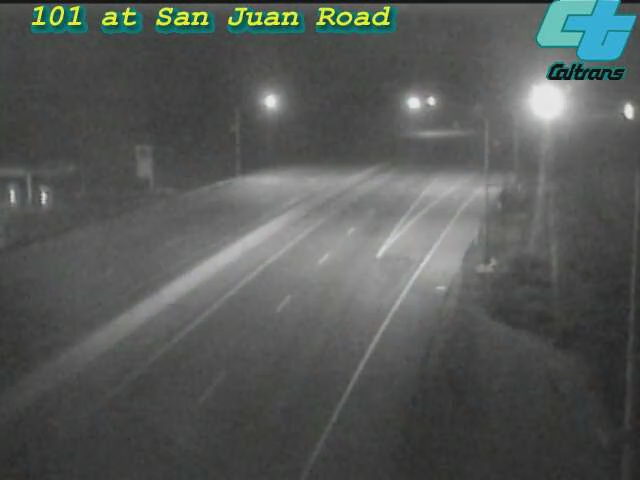vehicle: (522, 78, 572, 128), (606, 87, 640, 137)
